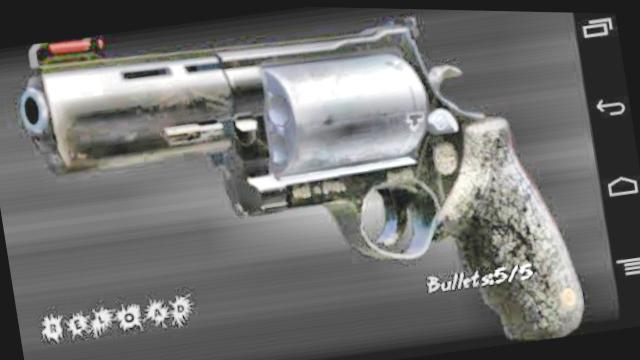pistol: (15, 0, 586, 360)
